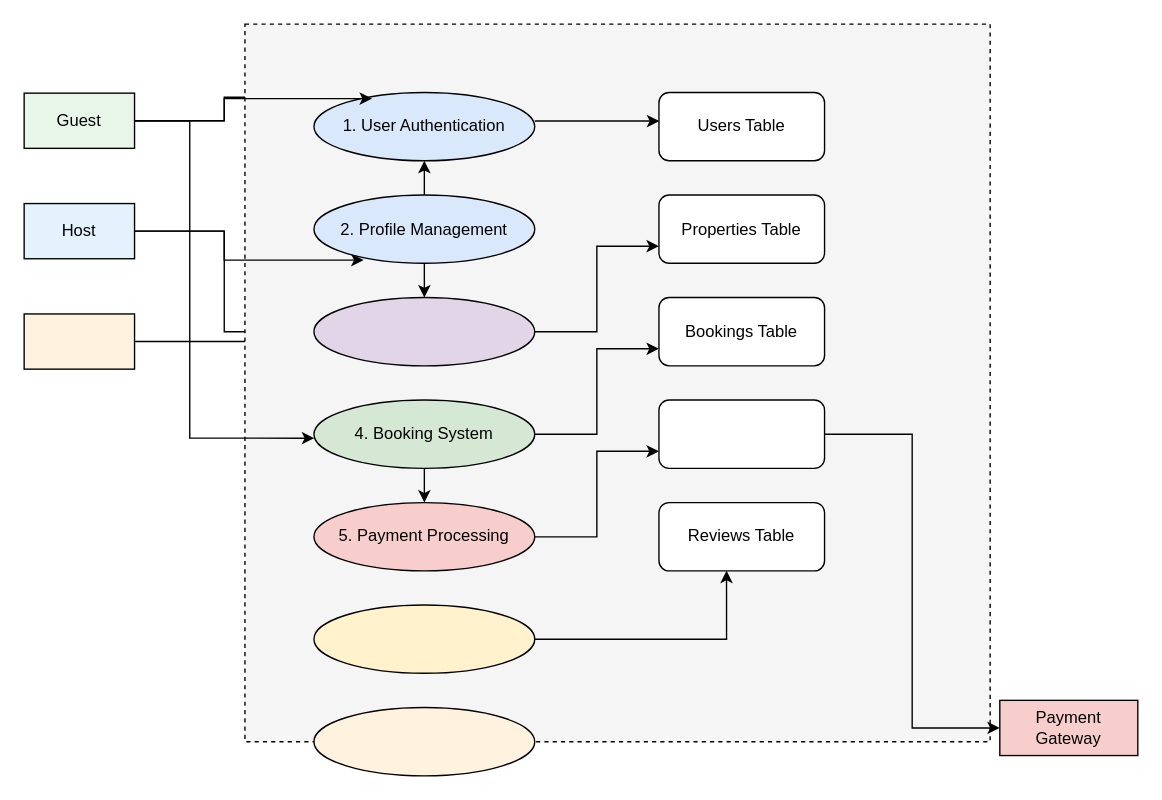
The diagram is 1162 pixels wide and 800 high, and some of its shapes have lost their labels. Each missing label, with the box of its shape:
3. Property Management: (313, 296, 535, 366)
6. Reviews & Notifications: (313, 604, 535, 673)
7. Admin Controls: (313, 706, 535, 776)
Admin: (23, 313, 135, 369)
Payments Table: (658, 399, 825, 468)
